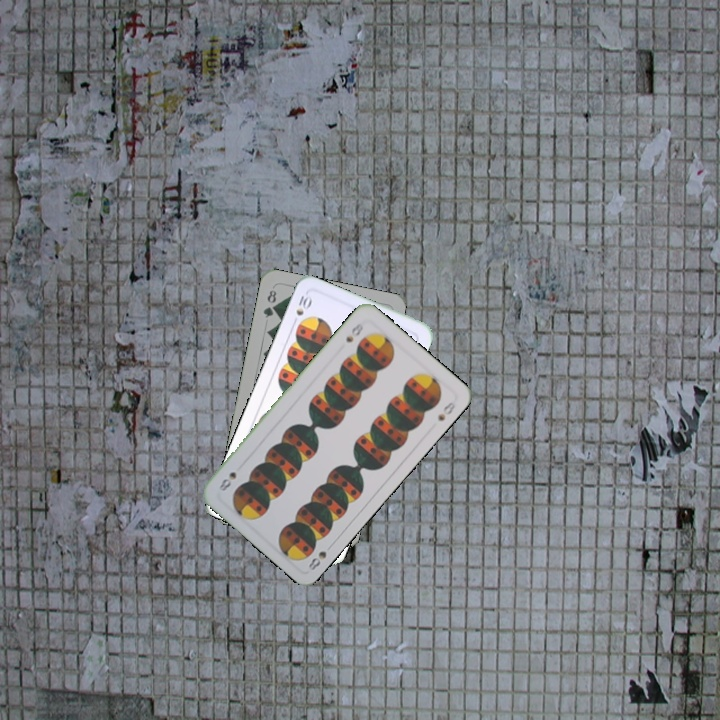G8: (259, 286, 279, 321)
S10: (292, 290, 315, 318)
S8: (304, 539, 336, 573), (342, 319, 366, 345)
